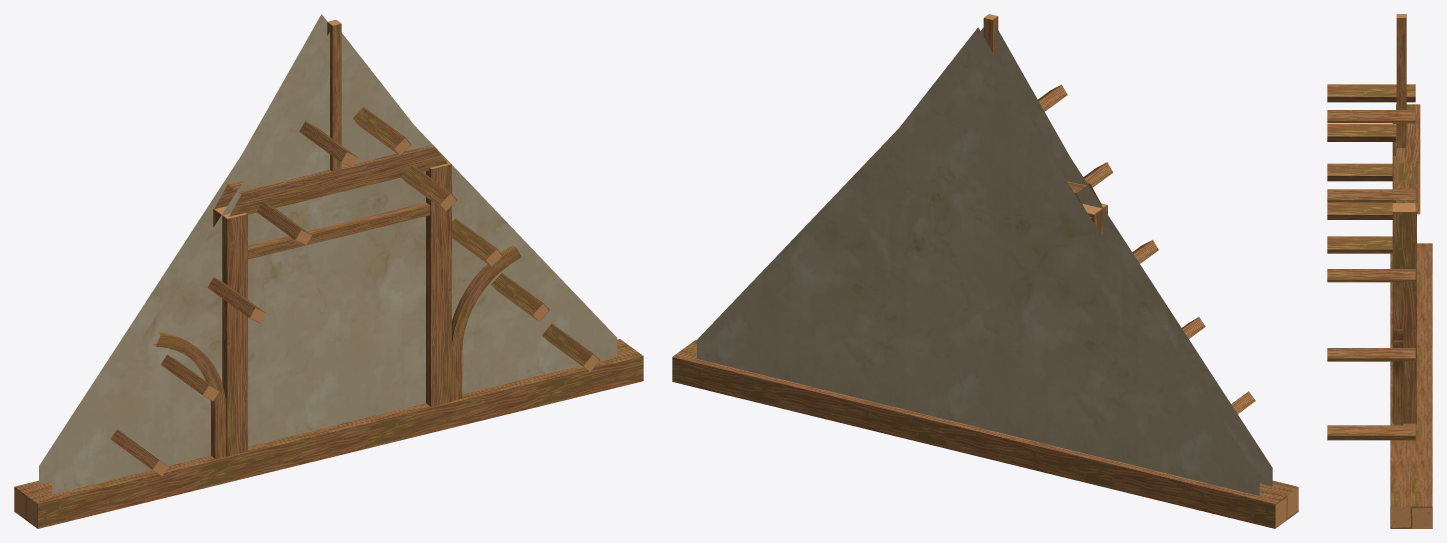
File: Roof_Front_Brick6.glb
3 views of the same model, side by side, from view 1: azimuth 30°, elevation 25°; view 2: azimuth 150°, elevation 25°; view 3: azimuth 270°, elevation 25° (orthographic). The views are drawn at different scales.
Parts seen in each view (by area): view 1: Roof_Front_Brick6; view 2: Roof_Front_Brick6; view 3: Roof_Front_Brick6.
Part boxes in pixels (left/top/right/bottom): Roof_Front_Brick6: left=14, top=14, right=643, bottom=528; Roof_Front_Brick6: left=672, top=14, right=1298, bottom=528; Roof_Front_Brick6: left=1327, top=14, right=1432, bottom=528.
Size of the model in its own units: 6.69 by 4.52 by 1.13.
Materials: 2 (2 with a texture image).
